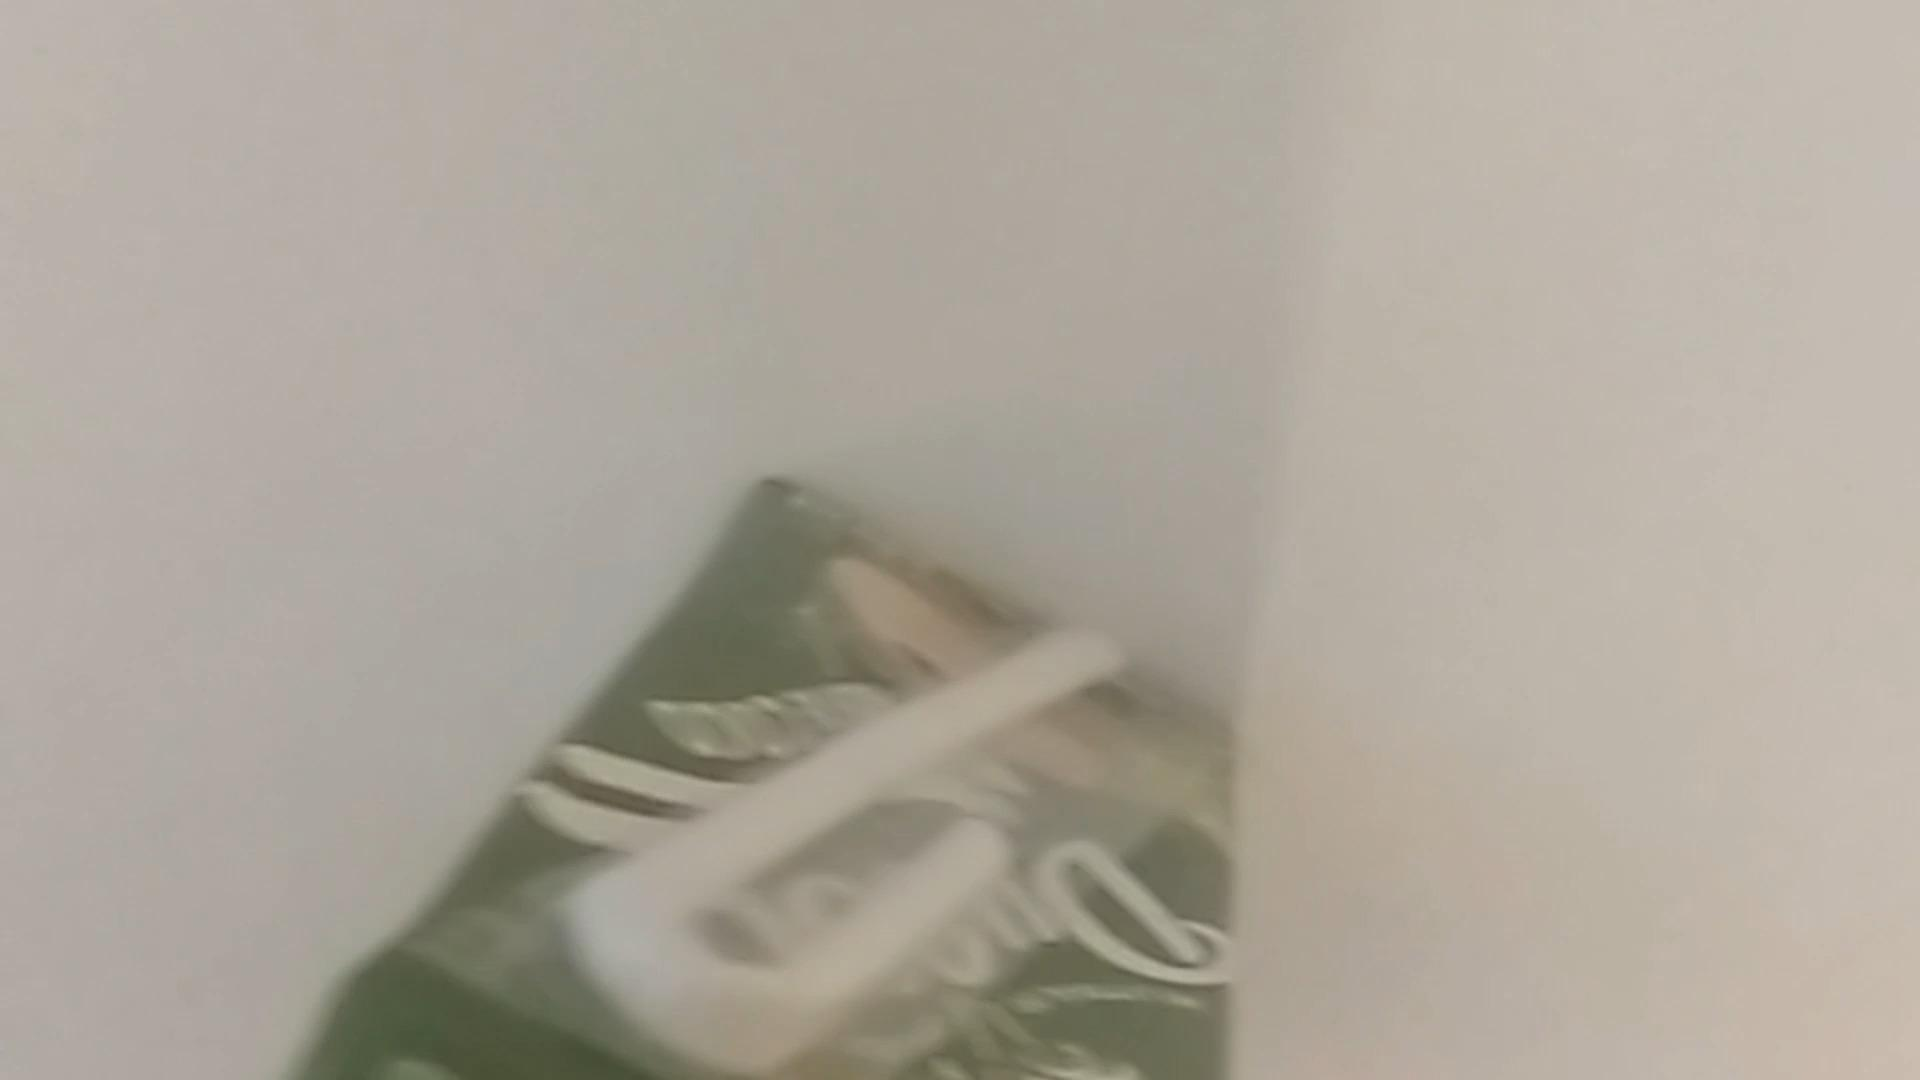coco: (293, 468, 1255, 1080)
